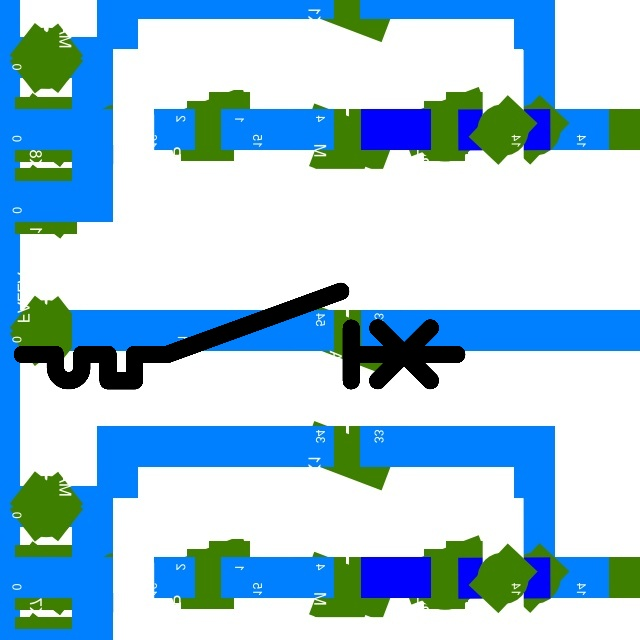interruptor_termomagnetico: (11, 280, 468, 392)
